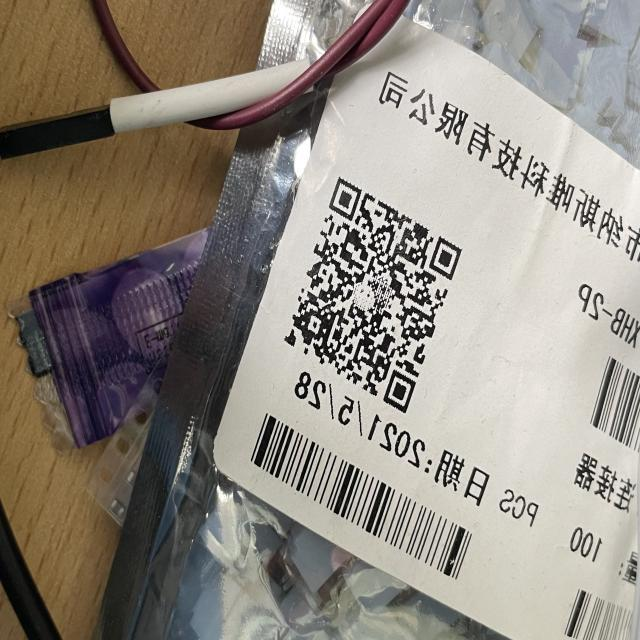qr_code: (283, 176, 462, 414)
